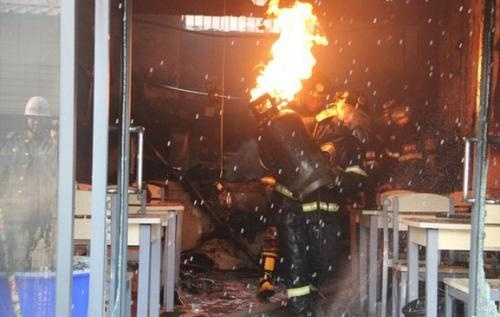fire: (251, 0, 329, 110)
